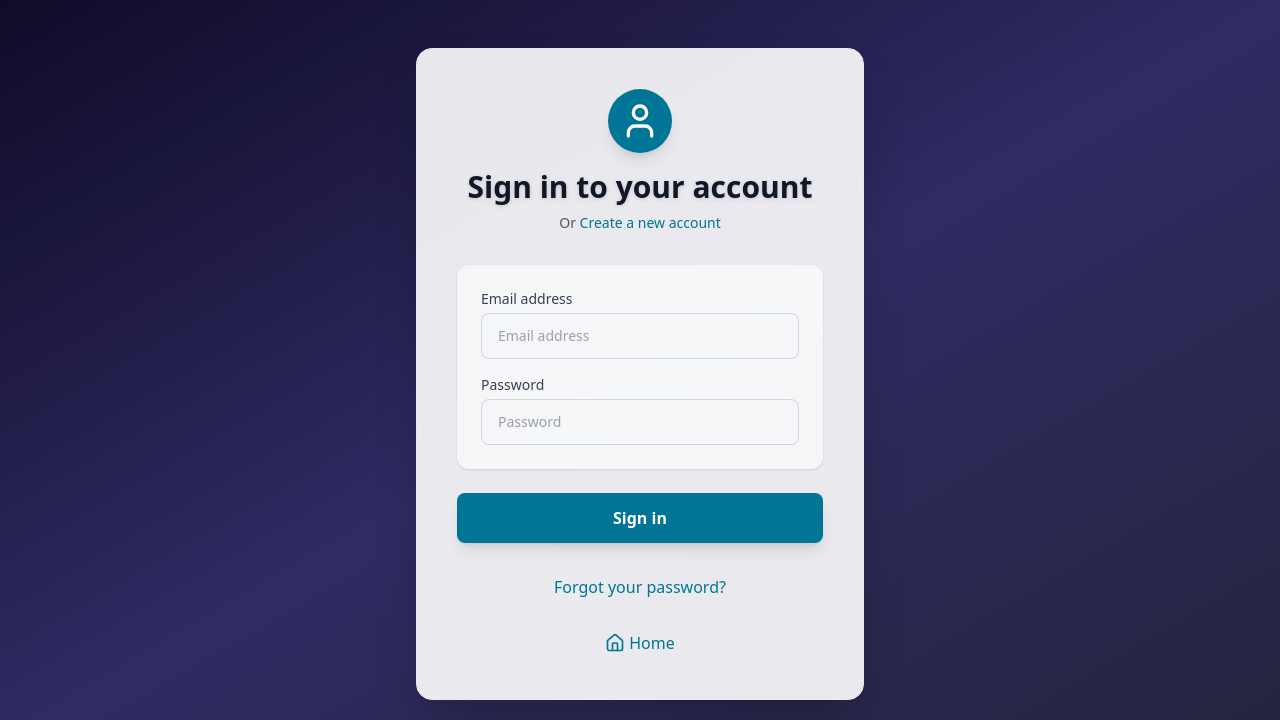
Test case: login test › test login failure
Fill in the email information.
Type "wrong@email.com" into the field with placeholder "Email address".
click(640, 336); type("wrong@email.com")  # box [481, 313, 799, 359]
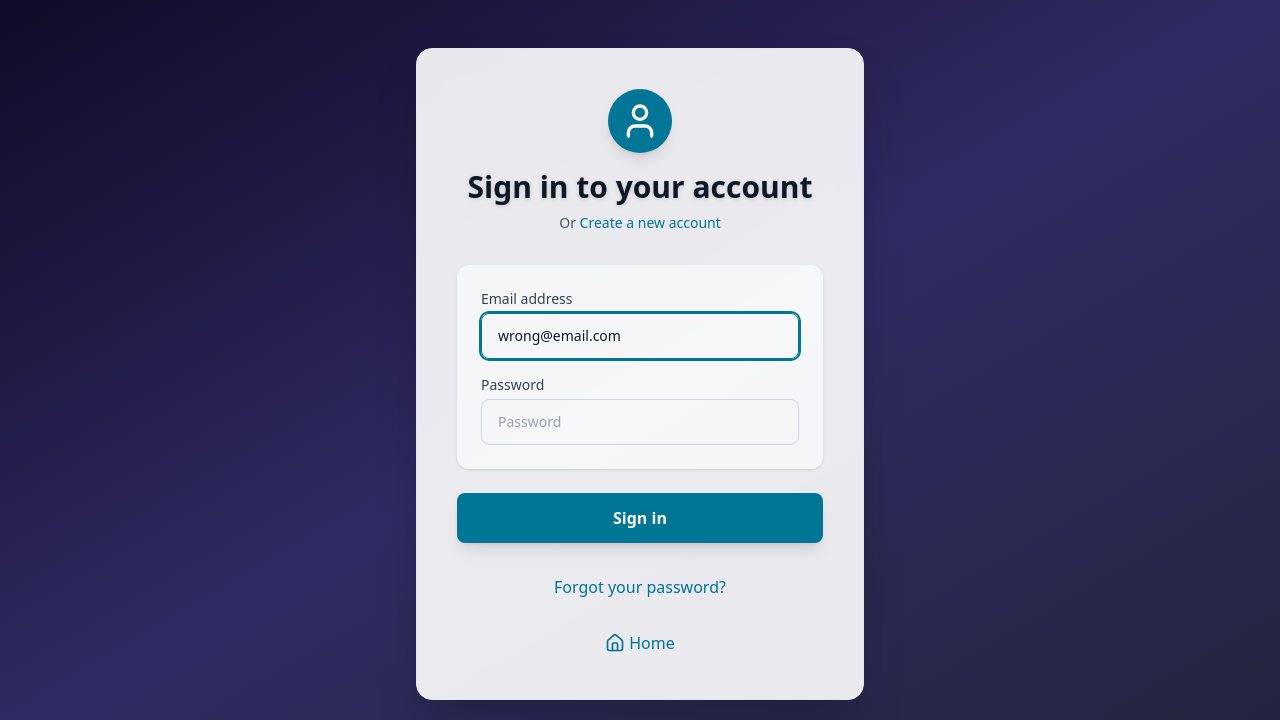
Fill in the password information.
Type "wrongpassword" into the password field with placeholder "Password".
click(640, 422); type("wrongpassword")  # box [481, 399, 799, 445]
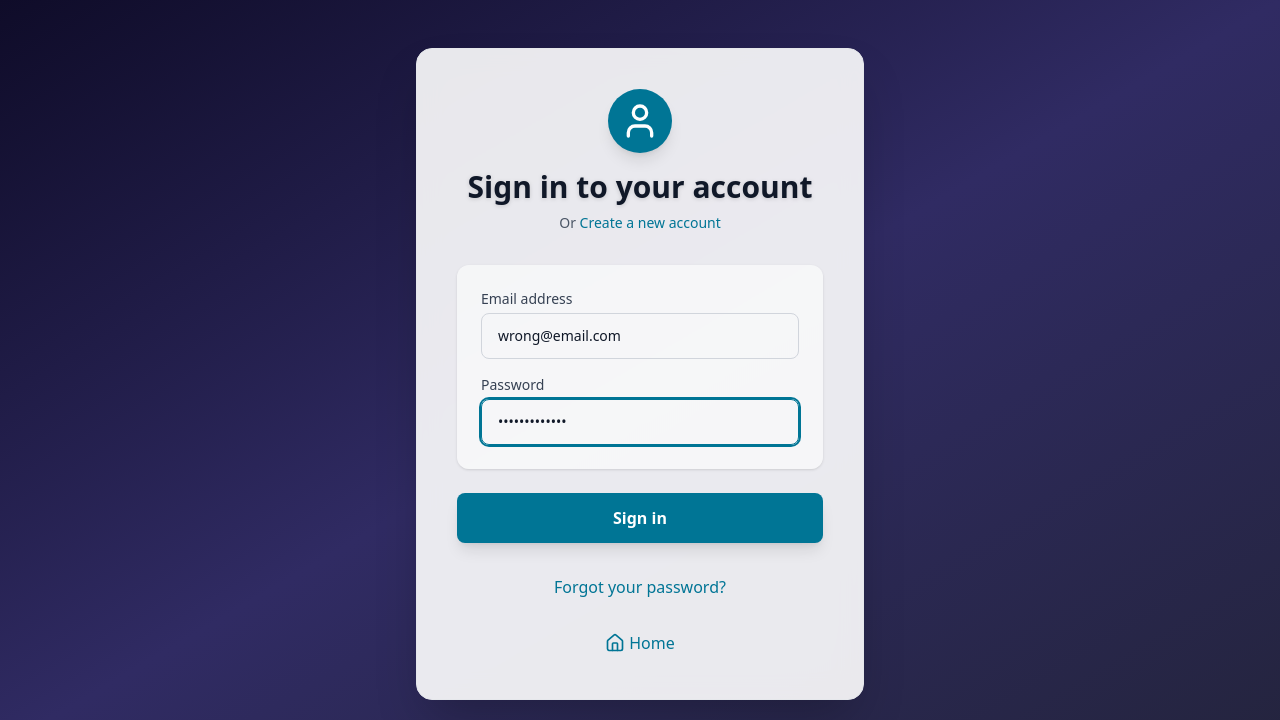
Click the login button.
Click the button with test id "login-button".
click(640, 518)  # box [457, 493, 823, 543]
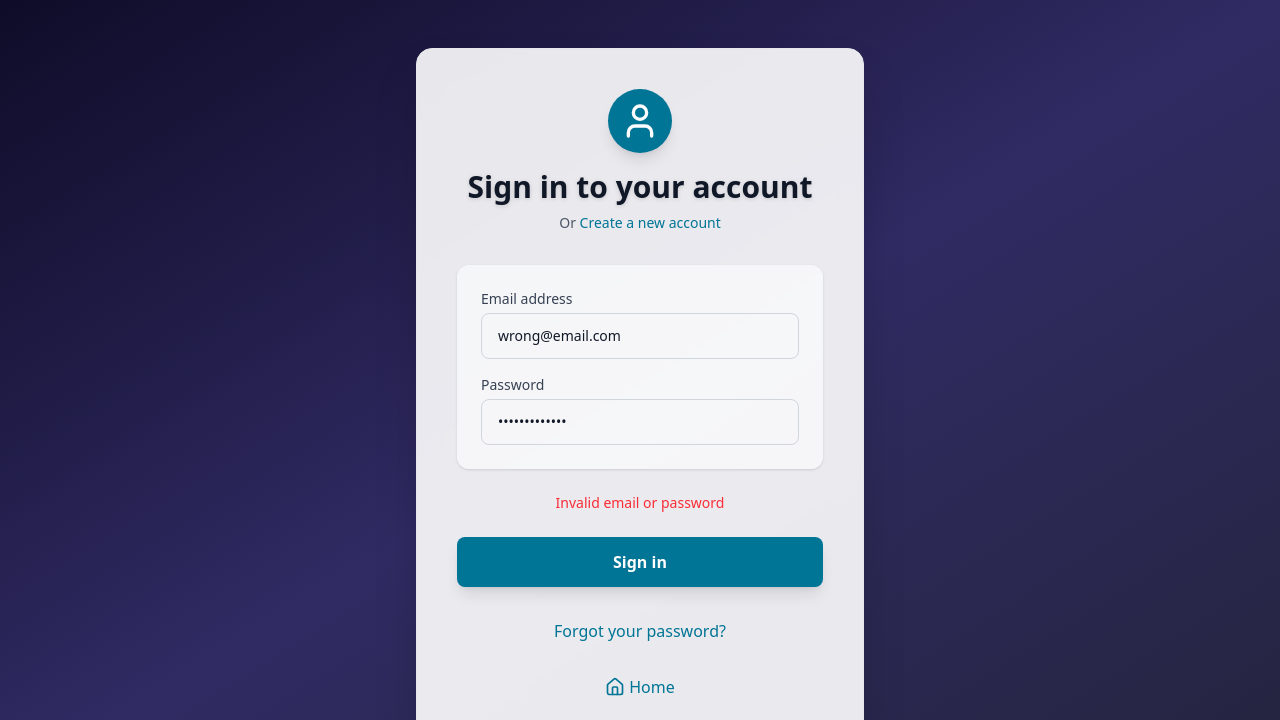
Check: the text "Invalid email or password" is shown, box [556, 493, 724, 512]
